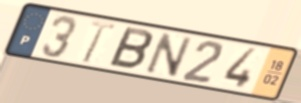2: (180, 39, 226, 86)
3: (40, 13, 78, 60)
4: (219, 46, 259, 91)
B: (105, 24, 155, 72)
N: (143, 30, 195, 79)
T: (80, 18, 119, 65)
